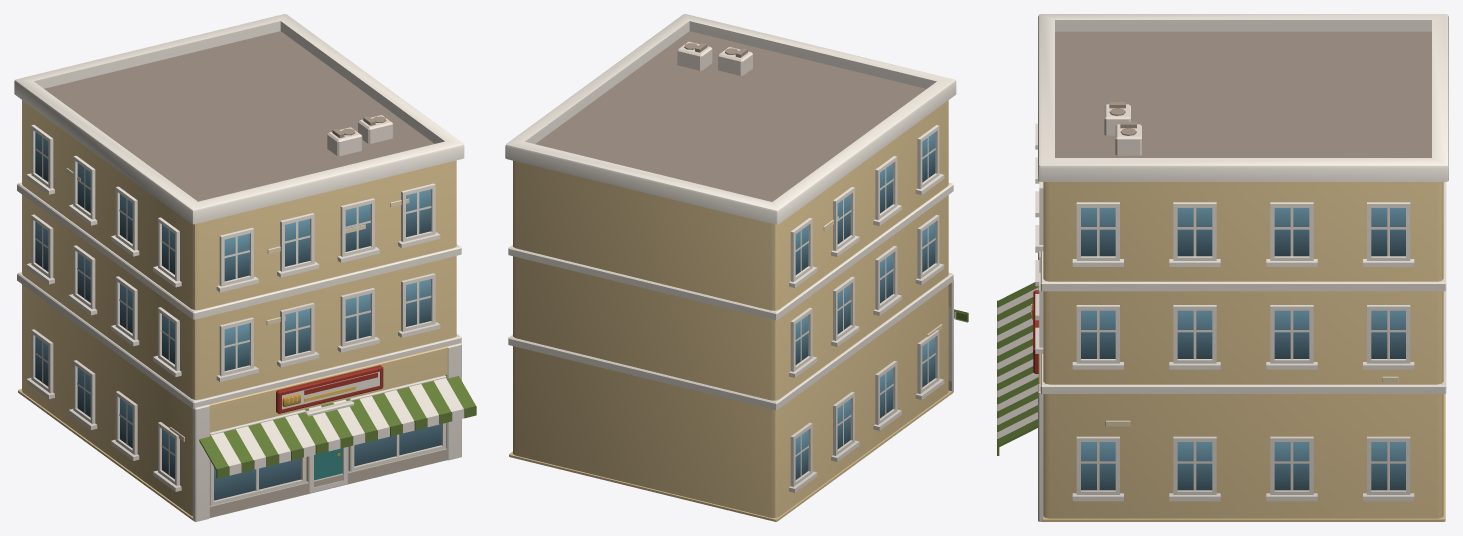
The model's file is beacon_w0.glb.
The picture shows the model from 3 angles, left to right: view 1: azimuth 30°, elevation 25°; view 2: azimuth 150°, elevation 25°; view 3: azimuth 270°, elevation 25°; orthographic projection. The views are drawn at different scales.
Parts seen in each view (by area): view 1: beacon_w0; view 2: beacon_w0; view 3: beacon_w0.
Part boxes in pixels (x1,y1,x2,y2): beacon_w0: (14, 14, 476, 521); beacon_w0: (505, 14, 968, 521); beacon_w0: (997, 14, 1448, 521).
Size of the model in its own units: 10.98 by 12.19 by 13.55.
1 material, 1 textured.
